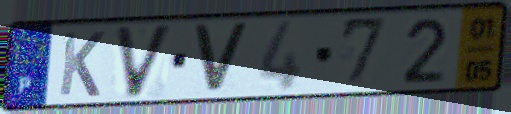2: (403, 16, 451, 87)
4: (256, 17, 308, 95)
7: (338, 15, 392, 91)
K: (56, 29, 108, 99)
V: (112, 22, 177, 102), (190, 22, 253, 96)
